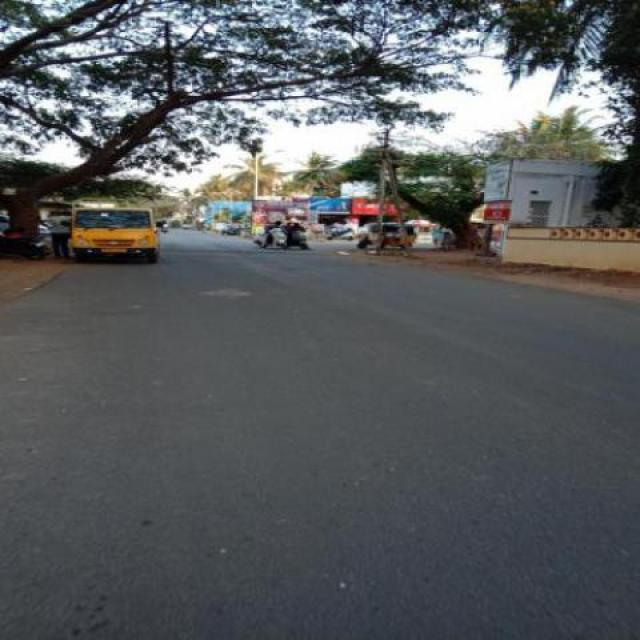Unmarked Bump: (160, 243, 343, 257)
